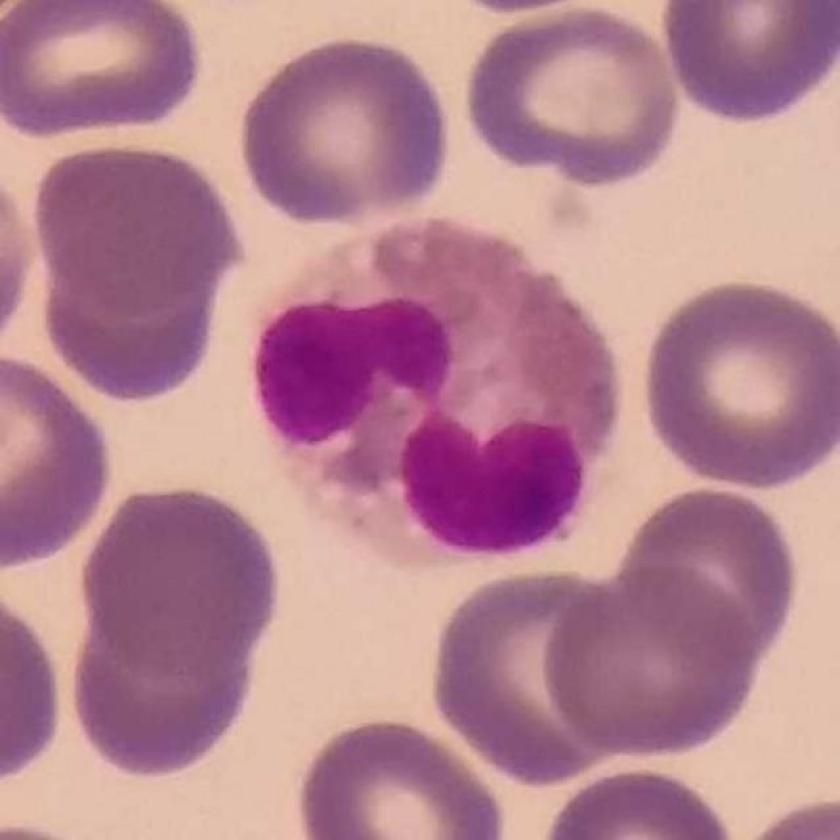eosinophil: (250, 220, 622, 579)
